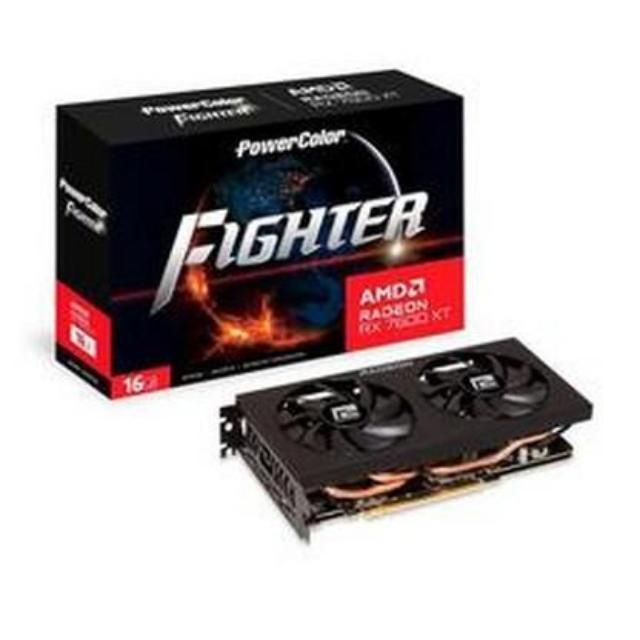GPU: (236, 330, 601, 536)
